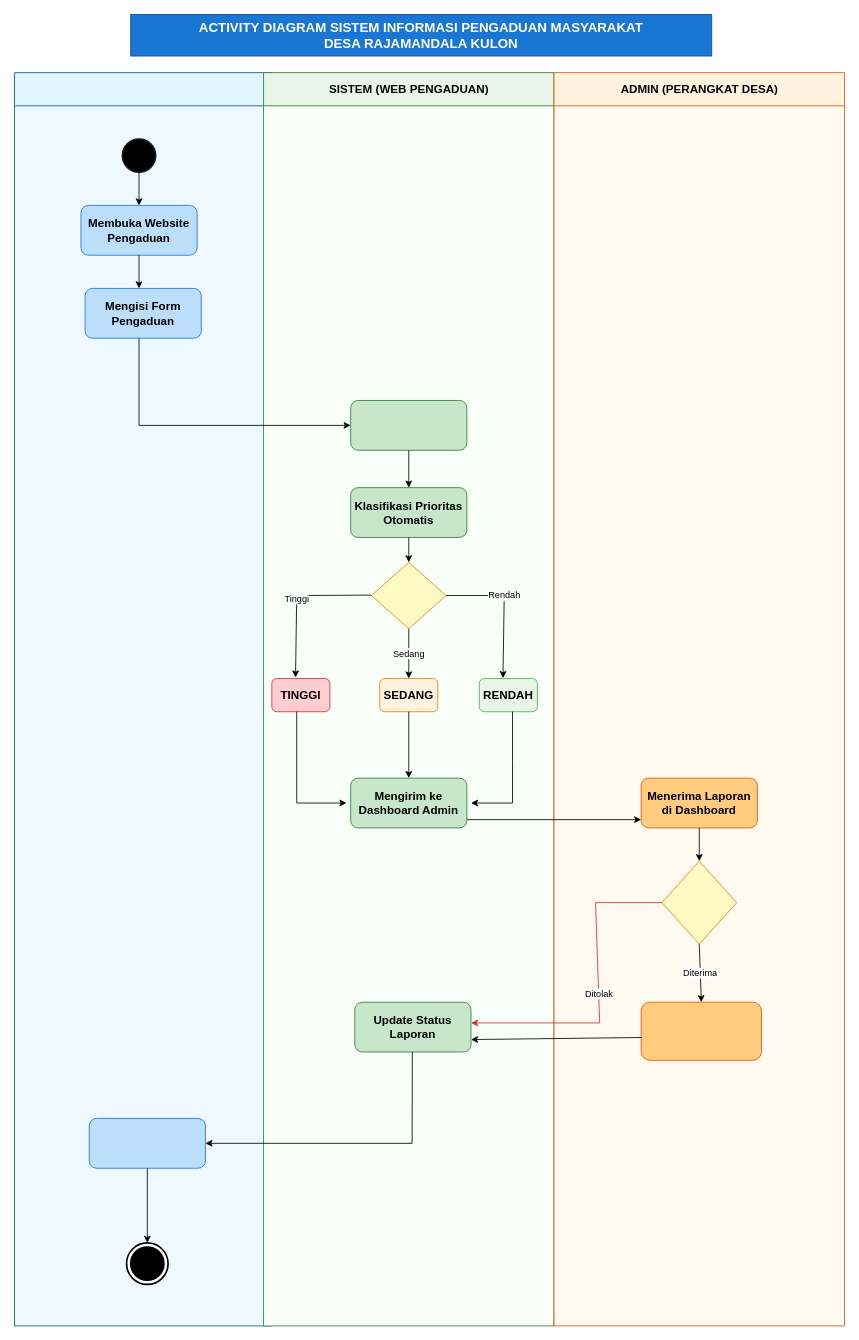
This 859x1340 diagram has some shape labels left out. The box of each missing label's shape, as (x1, y1, x2, y2) in pixels:
MASYARAKAT (USER): (14, 72, 272, 1326)
Menerima Data Pengaduan: (350, 400, 467, 450)
Menerima Notifikasi atau Lacak Aduan: (88, 1118, 205, 1168)
Meneruskan ke Petugas Lapangan / Lapora Ke Pihak Yang Berwanang: (640, 1001, 762, 1060)
Prioritas?: (371, 561, 446, 629)
Verifikasi Laporan?: (661, 860, 737, 944)
